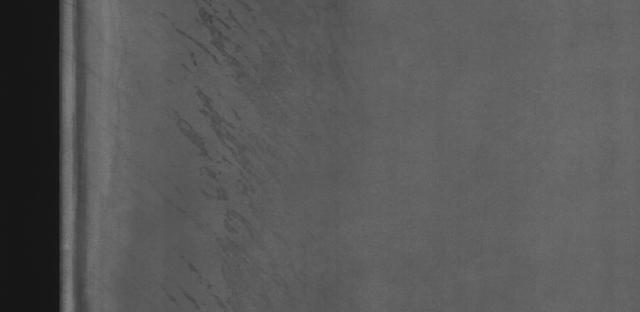water_spot: (172, 5, 300, 292)
